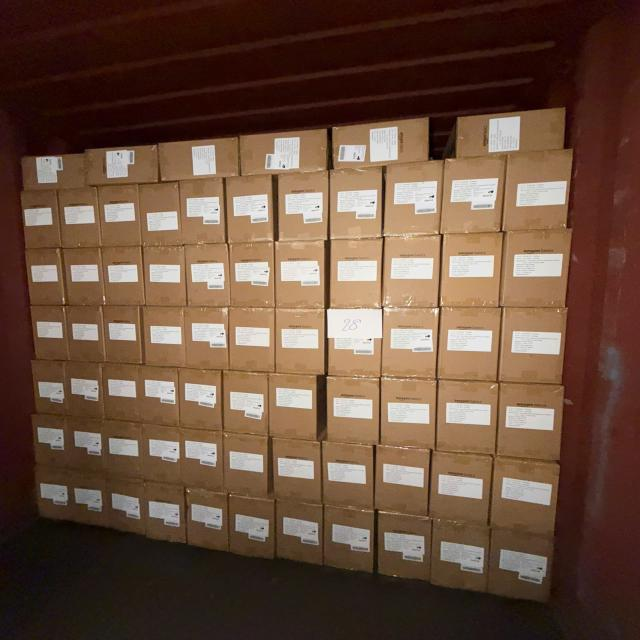Carton: (504, 153, 574, 235), (502, 232, 573, 310), (489, 456, 559, 532), (501, 308, 568, 386), (498, 383, 562, 464), (491, 530, 557, 608), (455, 111, 566, 156), (440, 159, 504, 237), (438, 234, 502, 311), (330, 120, 429, 169), (439, 308, 502, 384), (429, 522, 488, 600), (429, 451, 491, 525), (436, 381, 496, 457), (382, 162, 440, 238), (381, 235, 439, 310), (378, 377, 434, 452), (374, 513, 430, 587), (380, 308, 437, 380), (328, 237, 383, 310), (373, 445, 428, 518), (328, 170, 383, 242), (240, 131, 328, 175), (328, 309, 384, 378), (327, 377, 382, 447), (324, 444, 378, 514), (275, 239, 327, 310), (277, 173, 329, 244), (325, 504, 377, 574), (270, 438, 323, 505), (224, 174, 274, 244), (268, 374, 320, 441), (229, 496, 278, 566), (275, 309, 326, 375), (162, 138, 242, 180), (178, 425, 226, 495), (222, 431, 270, 499), (98, 415, 148, 479), (275, 500, 323, 566), (228, 308, 276, 374), (222, 372, 268, 439), (180, 365, 226, 431), (138, 420, 184, 486), (17, 152, 92, 192), (228, 242, 273, 308), (184, 179, 228, 245), (104, 472, 148, 538), (67, 467, 112, 531), (63, 414, 109, 476), (187, 307, 230, 373), (29, 461, 74, 524), (186, 245, 230, 309), (100, 360, 144, 424), (88, 145, 160, 184), (142, 482, 185, 547), (140, 363, 183, 428), (142, 247, 186, 309), (142, 307, 185, 370), (30, 411, 75, 471), (187, 492, 229, 556), (101, 184, 144, 246), (103, 248, 144, 308), (60, 187, 101, 247), (63, 248, 104, 308), (140, 184, 178, 248), (64, 359, 104, 418), (106, 307, 145, 366), (20, 190, 59, 248), (28, 249, 66, 308), (65, 308, 104, 364), (32, 307, 70, 362), (34, 359, 69, 416)
